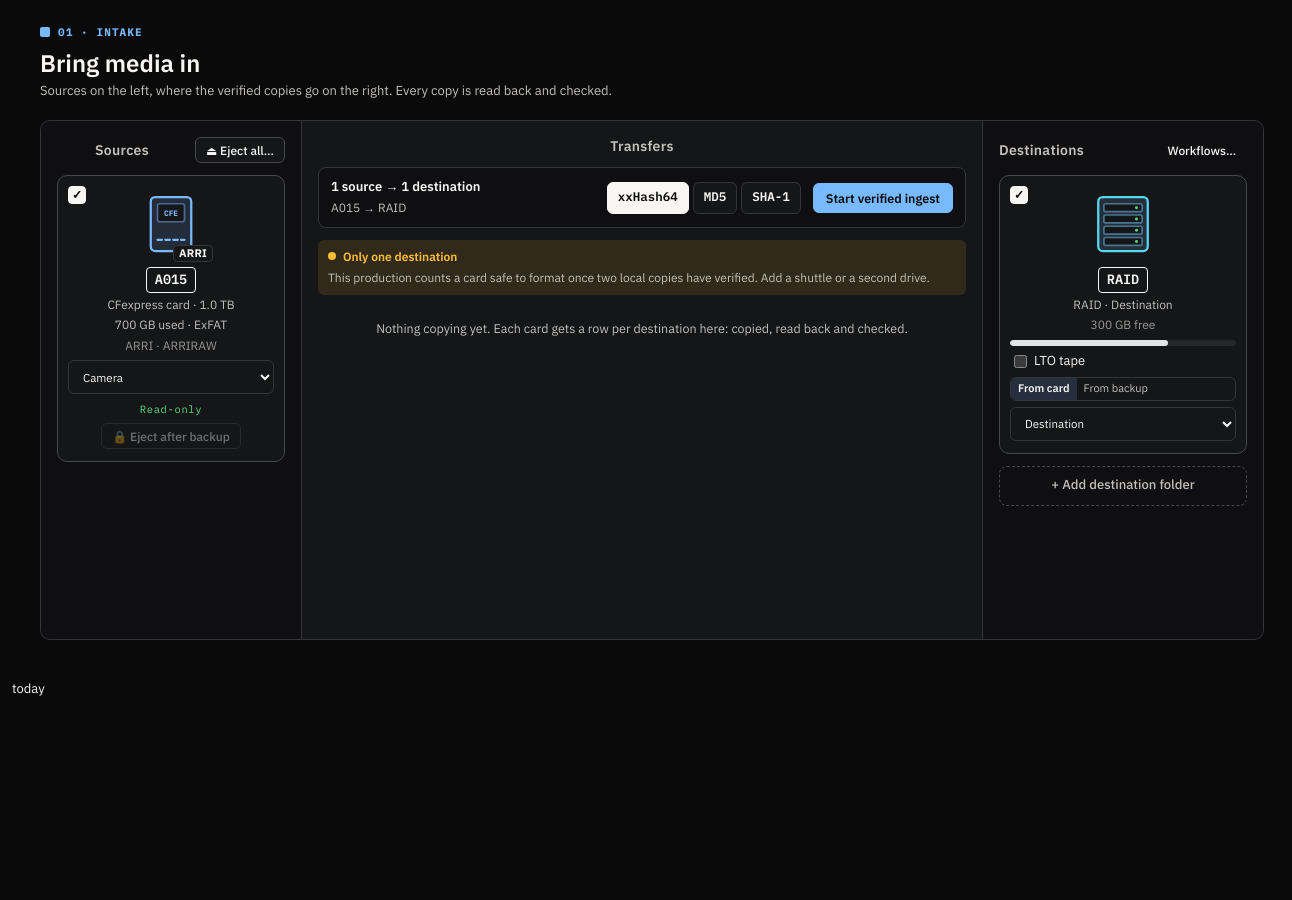
Scenario: Intake on the media engine › says why the engine refused, and stays put
Expected: the text "A015" is shown, left=146, top=268, right=196, bottom=293
Click the button "Start verified ingest" at (883, 198), box left=813, top=183, right=953, bottom=213
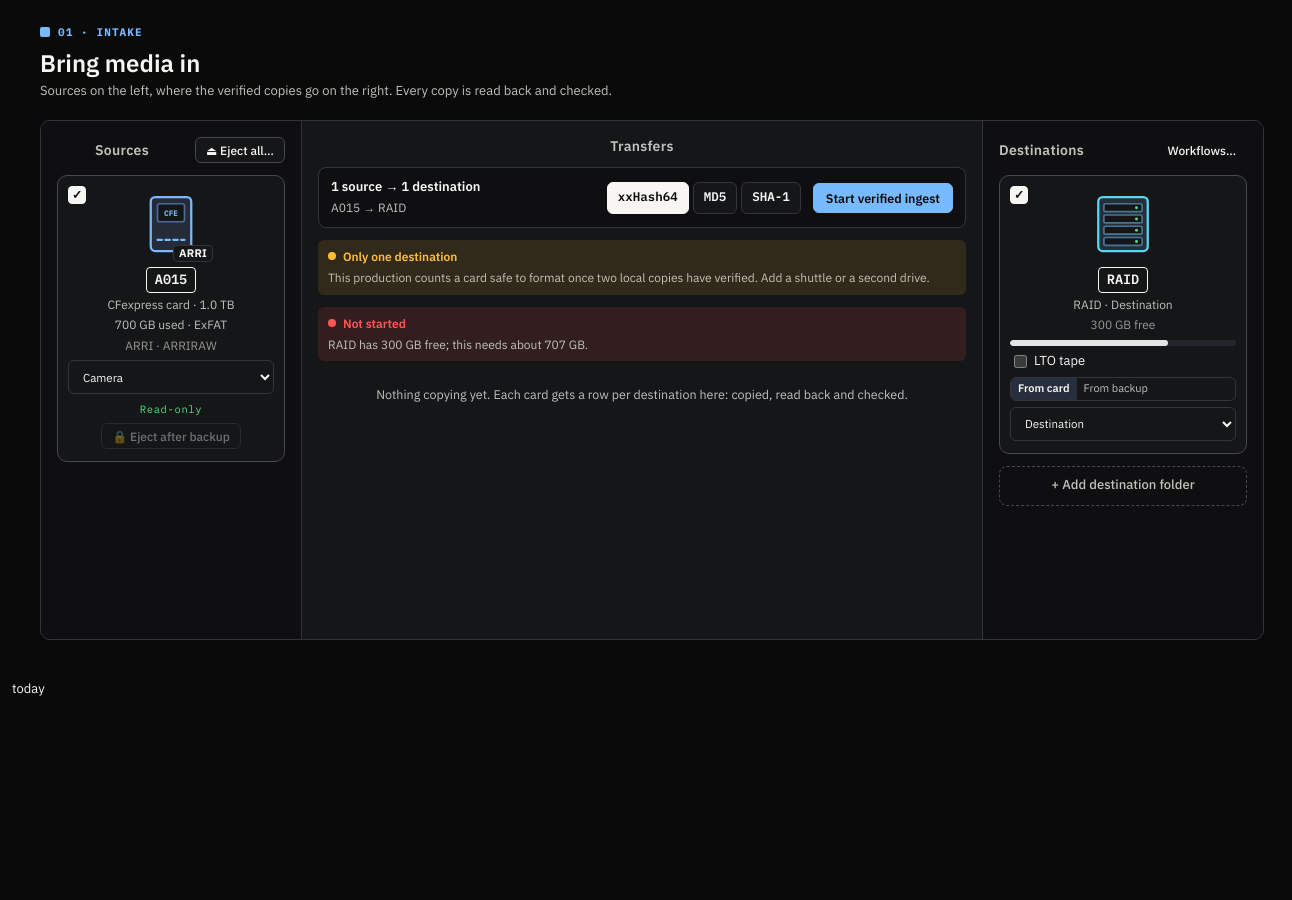
Expected: the message shows "RAID has 300 GB free", left=328, top=337, right=588, bottom=352
